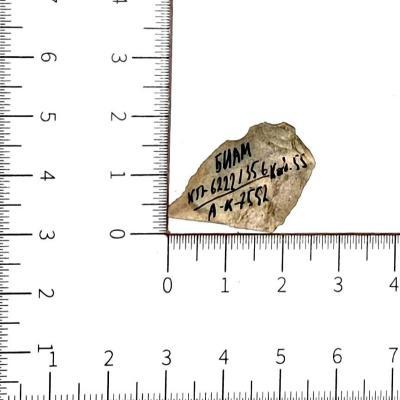archeology: (170, 123, 316, 234)
